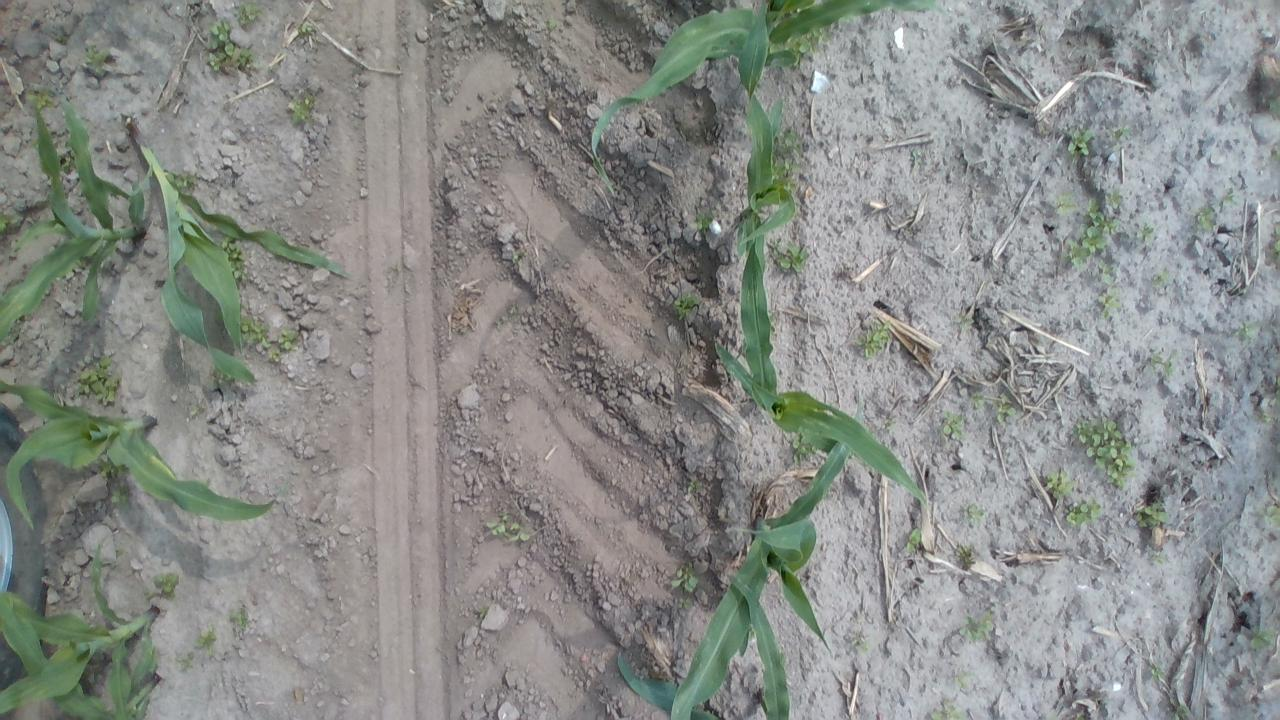Maize: (592, 1, 944, 200), (668, 390, 866, 720), (713, 234, 929, 512), (0, 379, 291, 532), (0, 94, 151, 352), (1, 534, 160, 718), (0, 591, 163, 720), (731, 78, 795, 340)
Weeds: (1060, 193, 1124, 271), (1071, 416, 1135, 490), (770, 10, 840, 66), (238, 316, 298, 363), (208, 21, 260, 74), (74, 348, 120, 406), (770, 126, 800, 190), (764, 237, 811, 275), (1196, 190, 1238, 232), (480, 513, 534, 545), (855, 321, 892, 358), (218, 234, 245, 281), (1132, 499, 1170, 532), (1064, 495, 1102, 527), (284, 88, 316, 126), (1149, 346, 1180, 382), (957, 618, 999, 644), (160, 165, 198, 191), (1064, 128, 1098, 157), (103, 468, 127, 507), (668, 569, 701, 596), (80, 45, 109, 74), (1043, 470, 1071, 499), (990, 392, 1019, 420), (672, 294, 700, 322), (792, 439, 819, 467), (1250, 622, 1276, 651), (928, 698, 962, 720), (1232, 318, 1260, 344), (150, 570, 180, 594), (24, 86, 56, 108), (1052, 195, 1078, 222), (1259, 504, 1280, 532), (942, 413, 964, 439), (1096, 294, 1118, 318), (0, 212, 25, 232), (694, 209, 714, 234), (234, 1, 262, 18), (191, 632, 215, 651), (1132, 224, 1156, 243), (954, 314, 976, 334), (964, 503, 986, 523), (905, 528, 920, 556), (1148, 274, 1170, 289), (230, 612, 248, 630), (1152, 661, 1166, 684), (852, 638, 869, 655), (297, 25, 314, 42), (971, 390, 983, 408), (910, 150, 921, 168), (173, 659, 190, 670), (687, 483, 695, 495)
